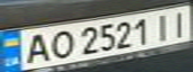1: (130, 15, 154, 46)
2: (75, 24, 100, 55), (115, 18, 136, 50)
5: (96, 20, 121, 52)
A: (18, 30, 54, 65)
I: (166, 7, 193, 38), (148, 11, 175, 40)
O: (42, 27, 75, 61)
